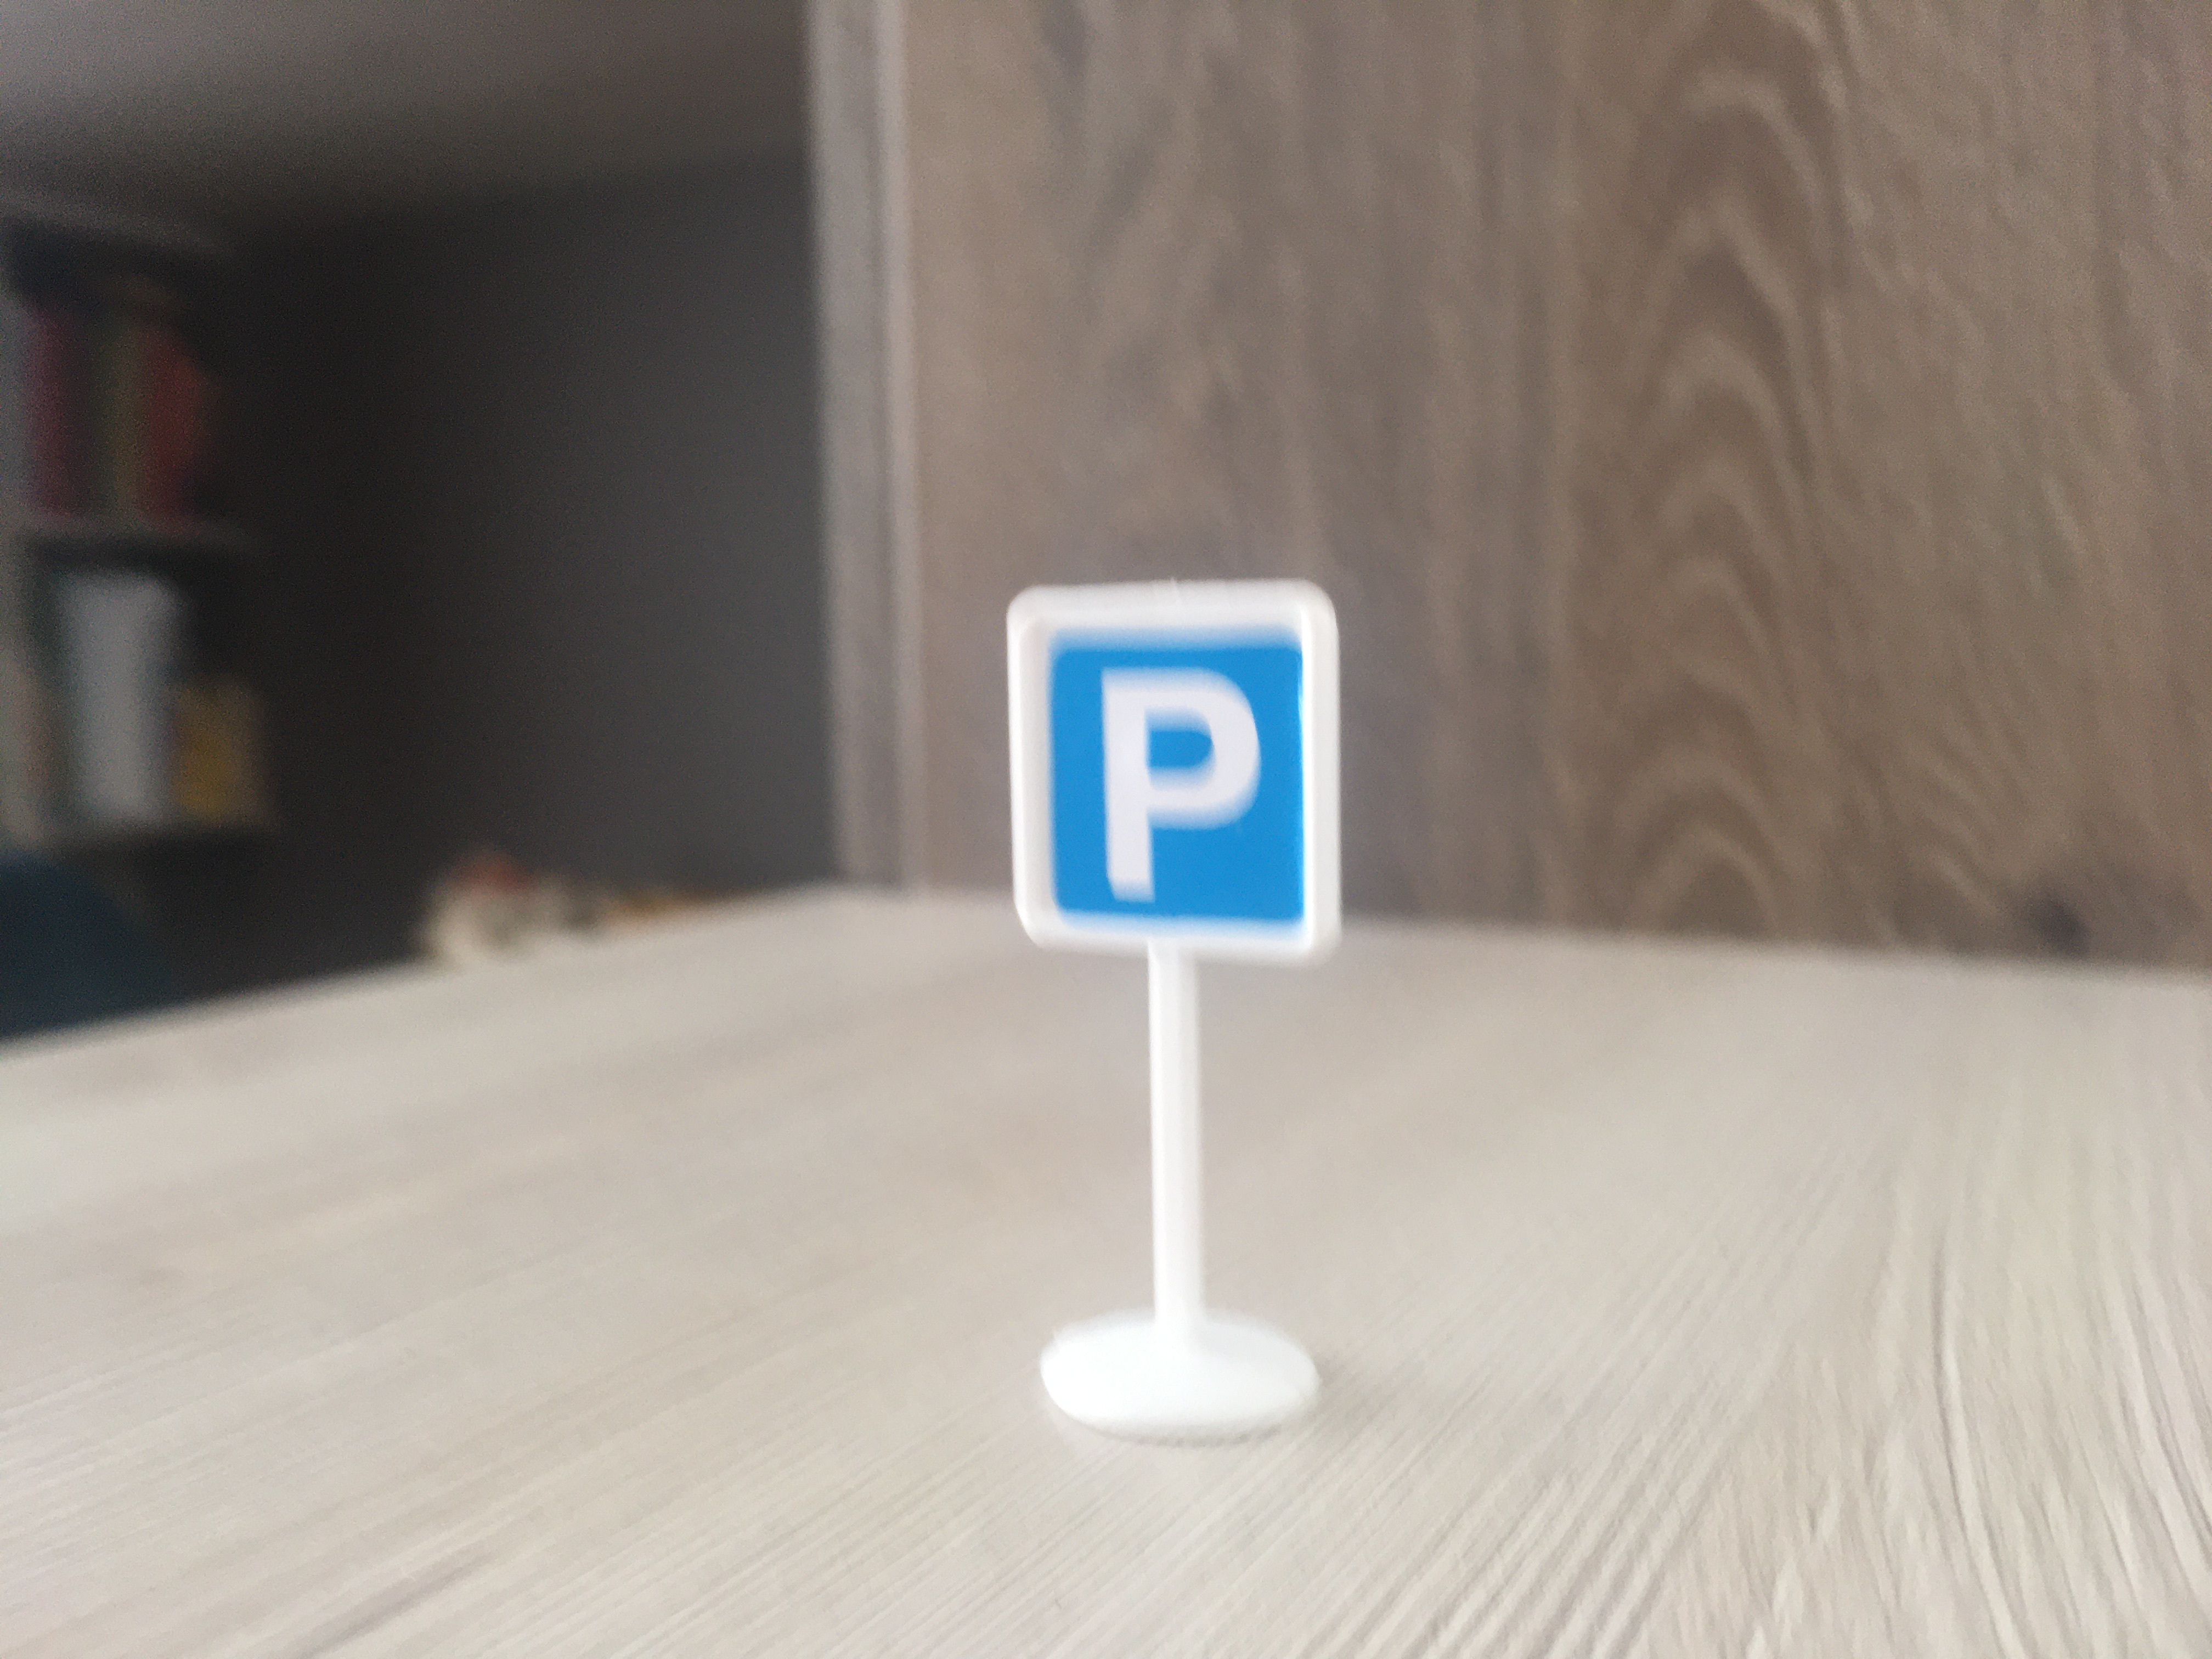parking: (1000, 580, 1339, 981)
